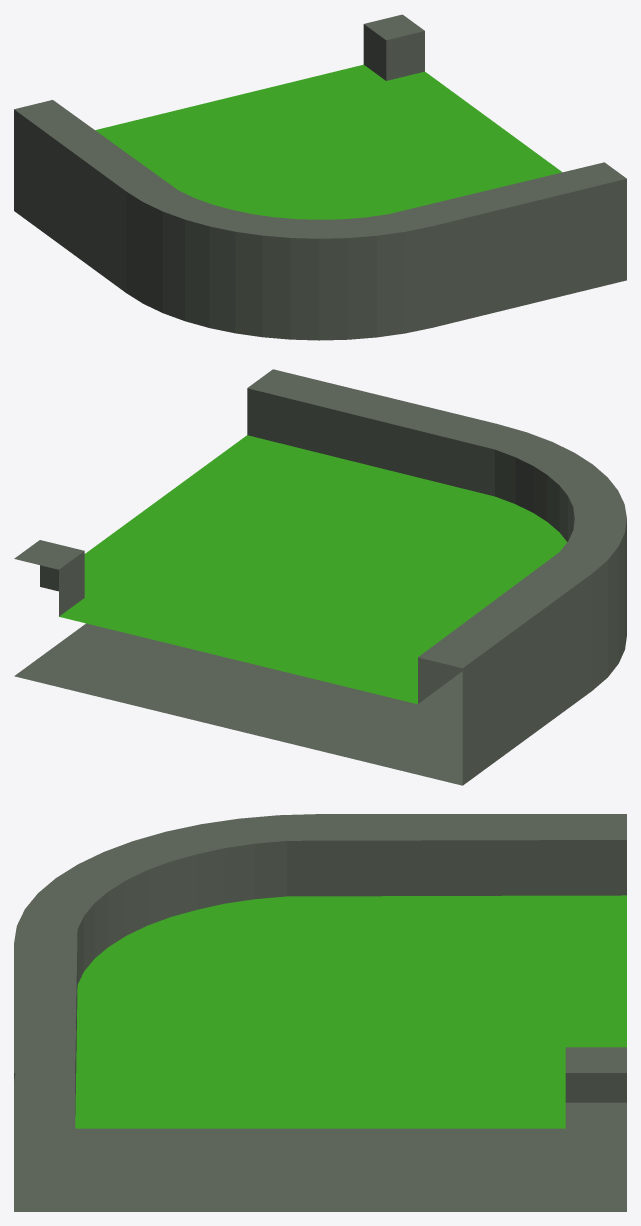
Rendered from CornerRRectWalled.fbx.
3 views of the same model, one above another, from view 1: azimuth 30°, elevation 25°; view 2: azimuth 150°, elevation 25°; view 3: azimuth 270°, elevation 25° (orthographic). The views are drawn at different scales.
Visible parts, largest first — view 1: CornerRRectWalled; view 2: CornerRRectWalled; view 3: CornerRRectWalled.
Part boxes in pixels (bbox=[...]): CornerRRectWalled: bbox=[14, 14, 626, 340]; CornerRRectWalled: bbox=[14, 369, 626, 785]; CornerRRectWalled: bbox=[14, 814, 626, 1211].
Bounding box in the file's own units: 200 × 50 × 200.
